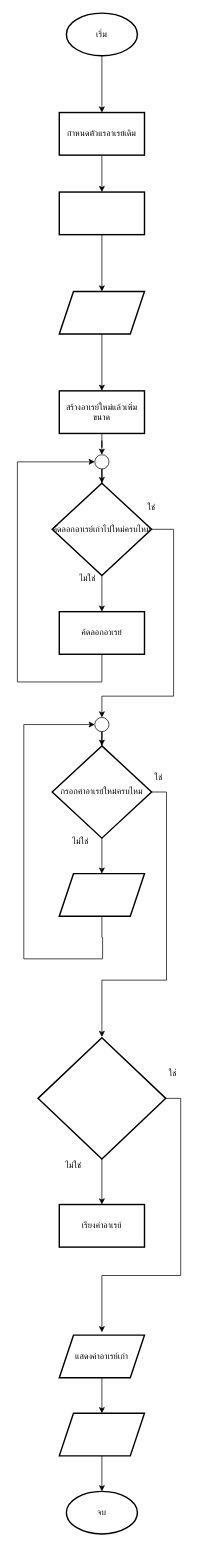
Some shapes in this 207 by 1546 pixel diagram are drawn without their labels. Here are the shapes that lost their labels. From the top down, the centre of each, then its label:
At point (101, 213): "กำหนดตัวแปร".
At point (101, 312): "รับจำนวนที่จะกรอกอาเรย์".
At point (101, 895): "กรอกค่าอาเรย์".
At point (101, 1098): "เรียงลำดับอาเรย์จากน้อยไปมากเสร็จไหม".
At point (101, 1434): "แสดงค่าอาเรย์ที่เรียงแล้ว".
